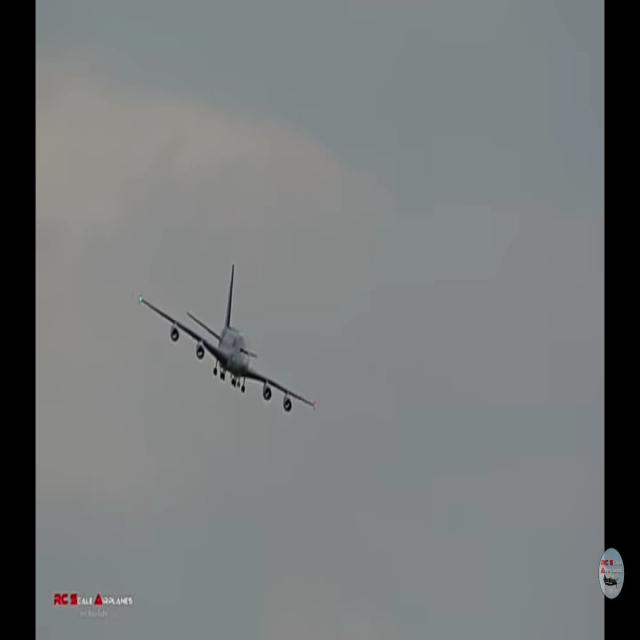iha: (138, 262, 318, 416)
